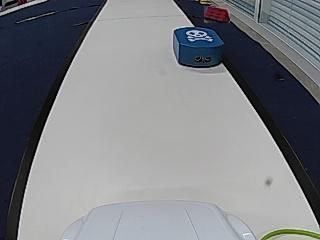danger: (186, 29, 212, 43)
